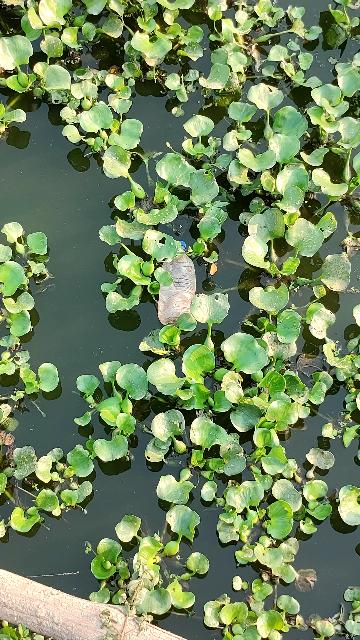bottle: (155, 243, 205, 327)
